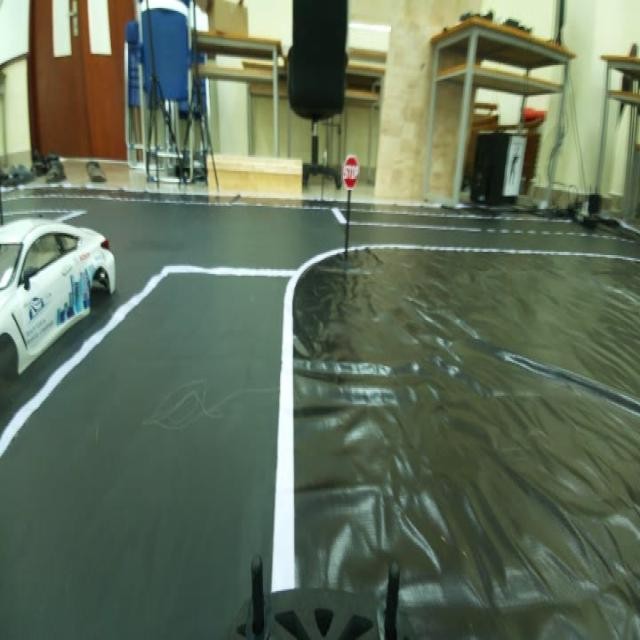stop: (336, 149, 365, 193)
